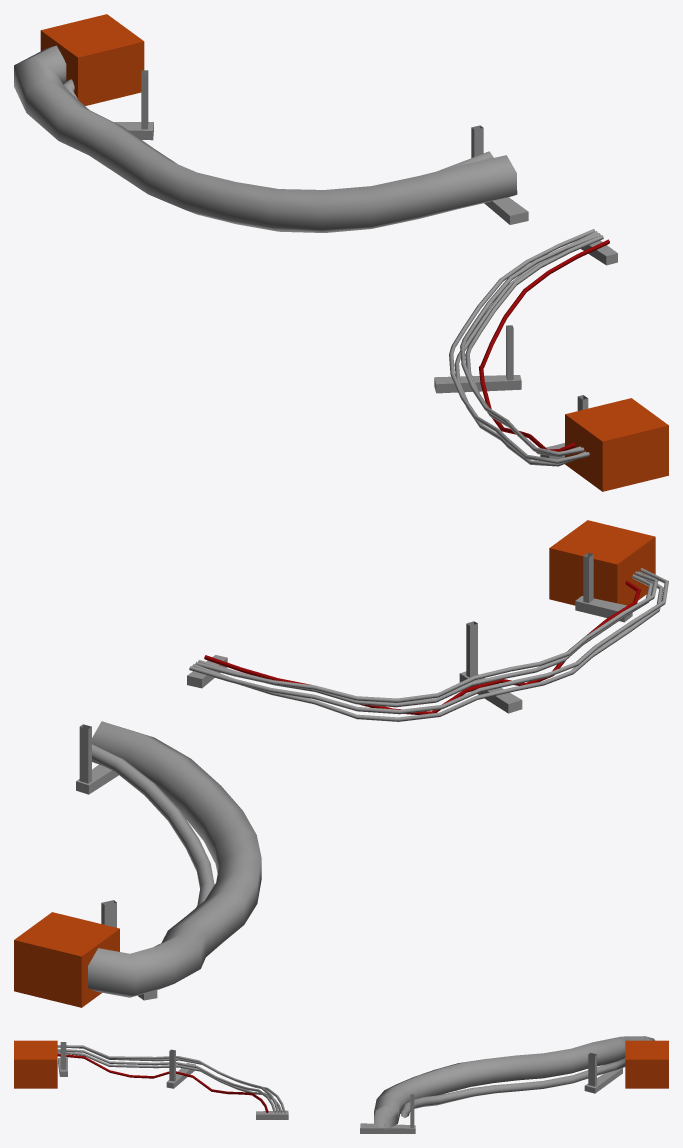
Rendered from way construct cable end L.FBX.
3 renders of one model, top to bottom at view 1: azimuth 30°, elevation 25°; view 2: azimuth 150°, elevation 25°; view 3: azimuth 270°, elevation 25°, orthographic. The views are drawn at different scales.
Visible parts, largest first — view 1: cable other004; view 2: cable other004; view 3: cable other004.
Boxes of the visible parts, x1=… form: cable other004: x1=14, y1=14, x2=668, y2=491; cable other004: x1=14, y1=520, x2=668, y2=1007; cable other004: x1=14, y1=1036, x2=668, y2=1133.
Size of the model in its own units: 2.03 by 0.6197 by 7.12.
